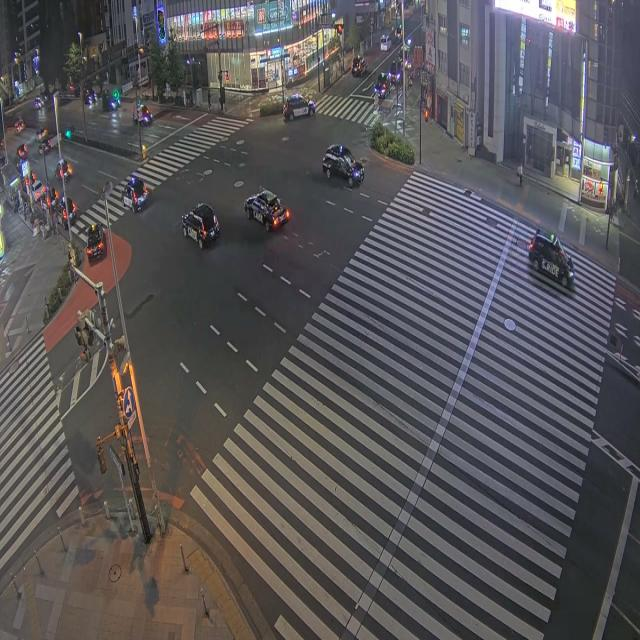car: (529, 229, 574, 287), (245, 190, 289, 231), (182, 203, 219, 248), (323, 145, 363, 186), (122, 176, 148, 212), (283, 95, 315, 120), (86, 224, 105, 262), (56, 197, 77, 227), (374, 73, 391, 98), (133, 104, 152, 126), (388, 58, 402, 84), (56, 159, 72, 181), (46, 184, 60, 208), (102, 93, 120, 111), (352, 56, 367, 76), (33, 180, 46, 201), (39, 138, 54, 155), (84, 89, 96, 106), (17, 143, 28, 160), (381, 34, 392, 51), (36, 128, 48, 141), (14, 119, 25, 133), (394, 24, 402, 41), (34, 97, 43, 110)
